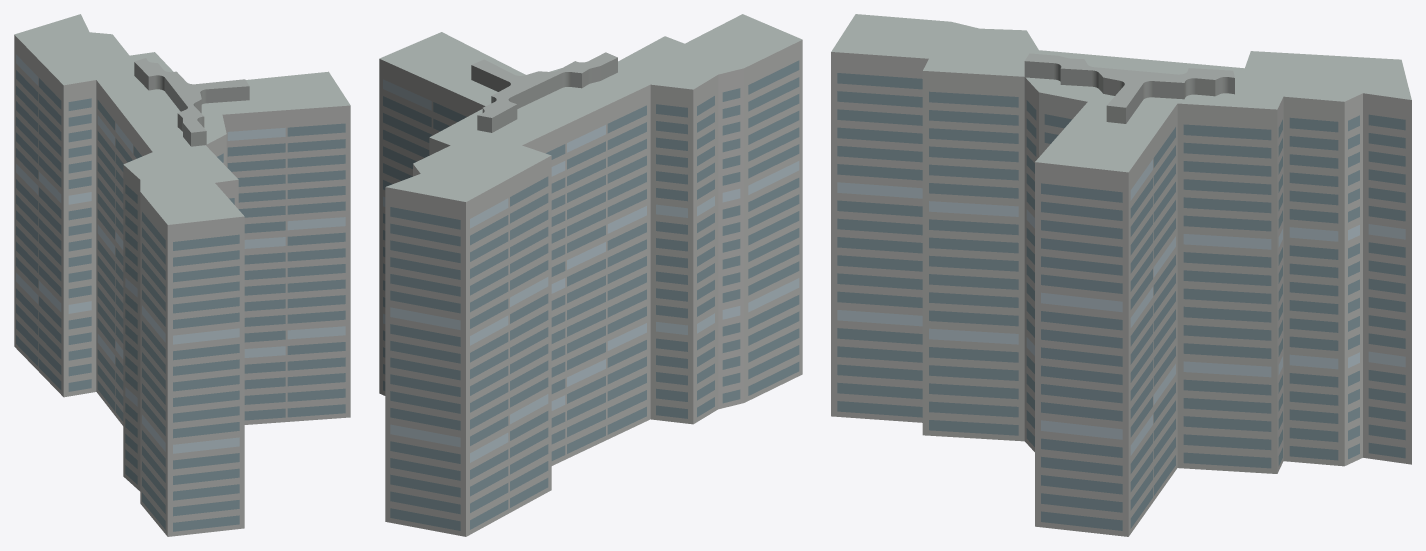
The model's file is apt-a13982101.glb.
3 renders of one model, left to right at view 1: azimuth 30°, elevation 25°; view 2: azimuth 150°, elevation 25°; view 3: azimuth 270°, elevation 25°, orthographic. The views are drawn at different scales.
Visible parts, largest first — view 1: apt-a13982101; view 2: apt-a13982101; view 3: apt-a13982101.
Part boxes in pixels (x1,y1,x2,y2): apt-a13982101: (14, 14, 350, 536); apt-a13982101: (379, 14, 802, 536); apt-a13982101: (831, 14, 1411, 536).
Bounding box in the file's own units: 49.96 × 56 × 77.38.
